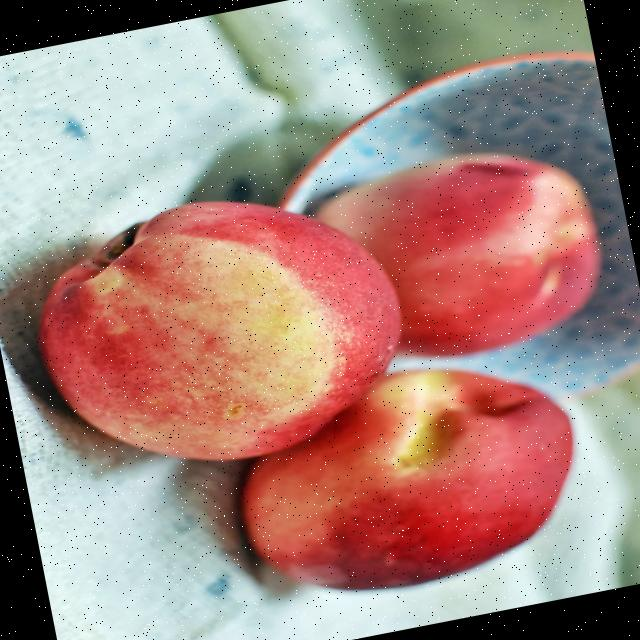peach: (40, 202, 399, 460), (243, 370, 572, 590), (319, 156, 599, 356)
